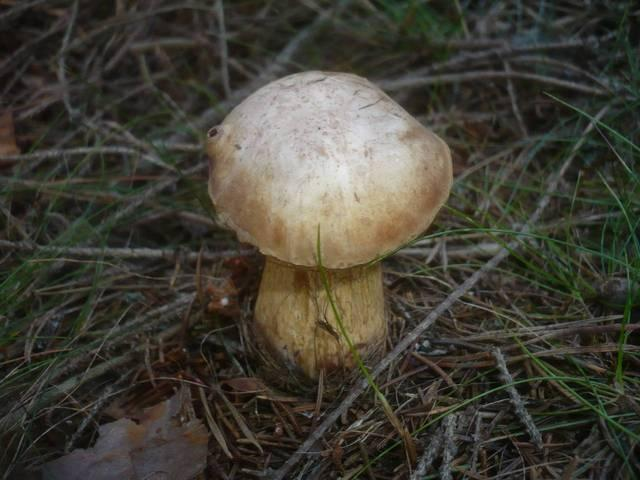poisonous_mushroom: (203, 68, 454, 382)
